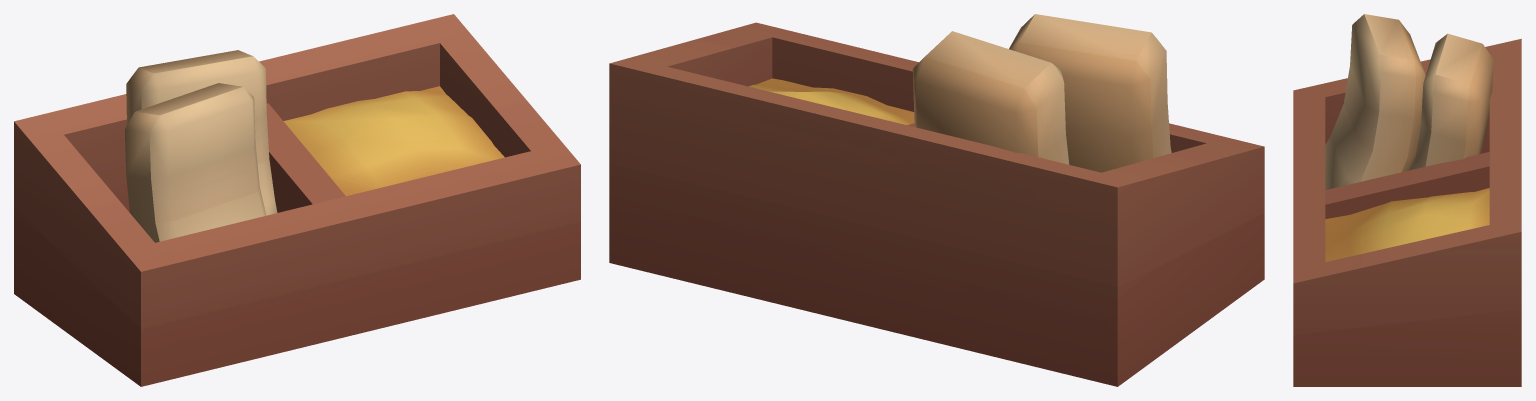
Rendered from kaykit-medieval-hexagon-pack-crate-long-c.glb.
3 renders of one model, left to right at view 1: azimuth 30°, elevation 25°; view 2: azimuth 150°, elevation 25°; view 3: azimuth 270°, elevation 25°, orthographic. The views are drawn at different scales.
Visible parts, largest first — view 1: crate_long_C; view 2: crate_long_C; view 3: crate_long_C.
Part boxes in pixels (box(x1,y1,x2,y2)): crate_long_C: box(14, 14, 580, 386); crate_long_C: box(609, 14, 1264, 386); crate_long_C: box(1293, 14, 1521, 386).
Bounding box in the file's own units: 0.4 × 0.1986 × 0.2.
1 material, 1 textured.
